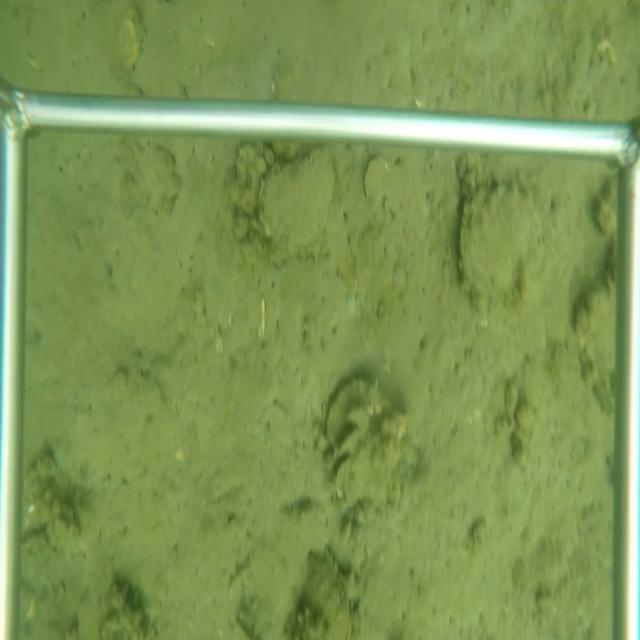Oyster-Indeterminate: (455, 176, 548, 305), (254, 147, 339, 253), (323, 369, 412, 454), (299, 546, 355, 638), (360, 155, 393, 209)
